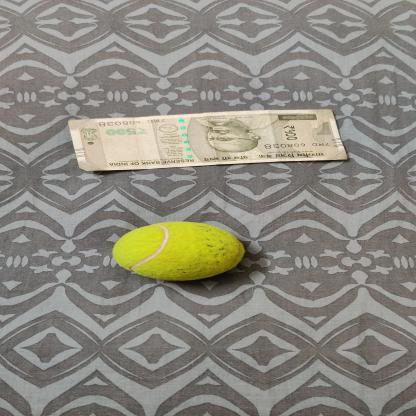New500Front: (69, 108, 351, 172)
